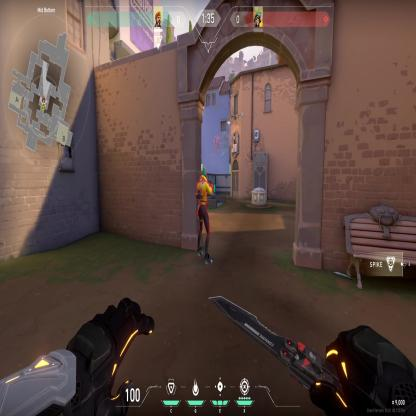enemy: (195, 164, 213, 268)
